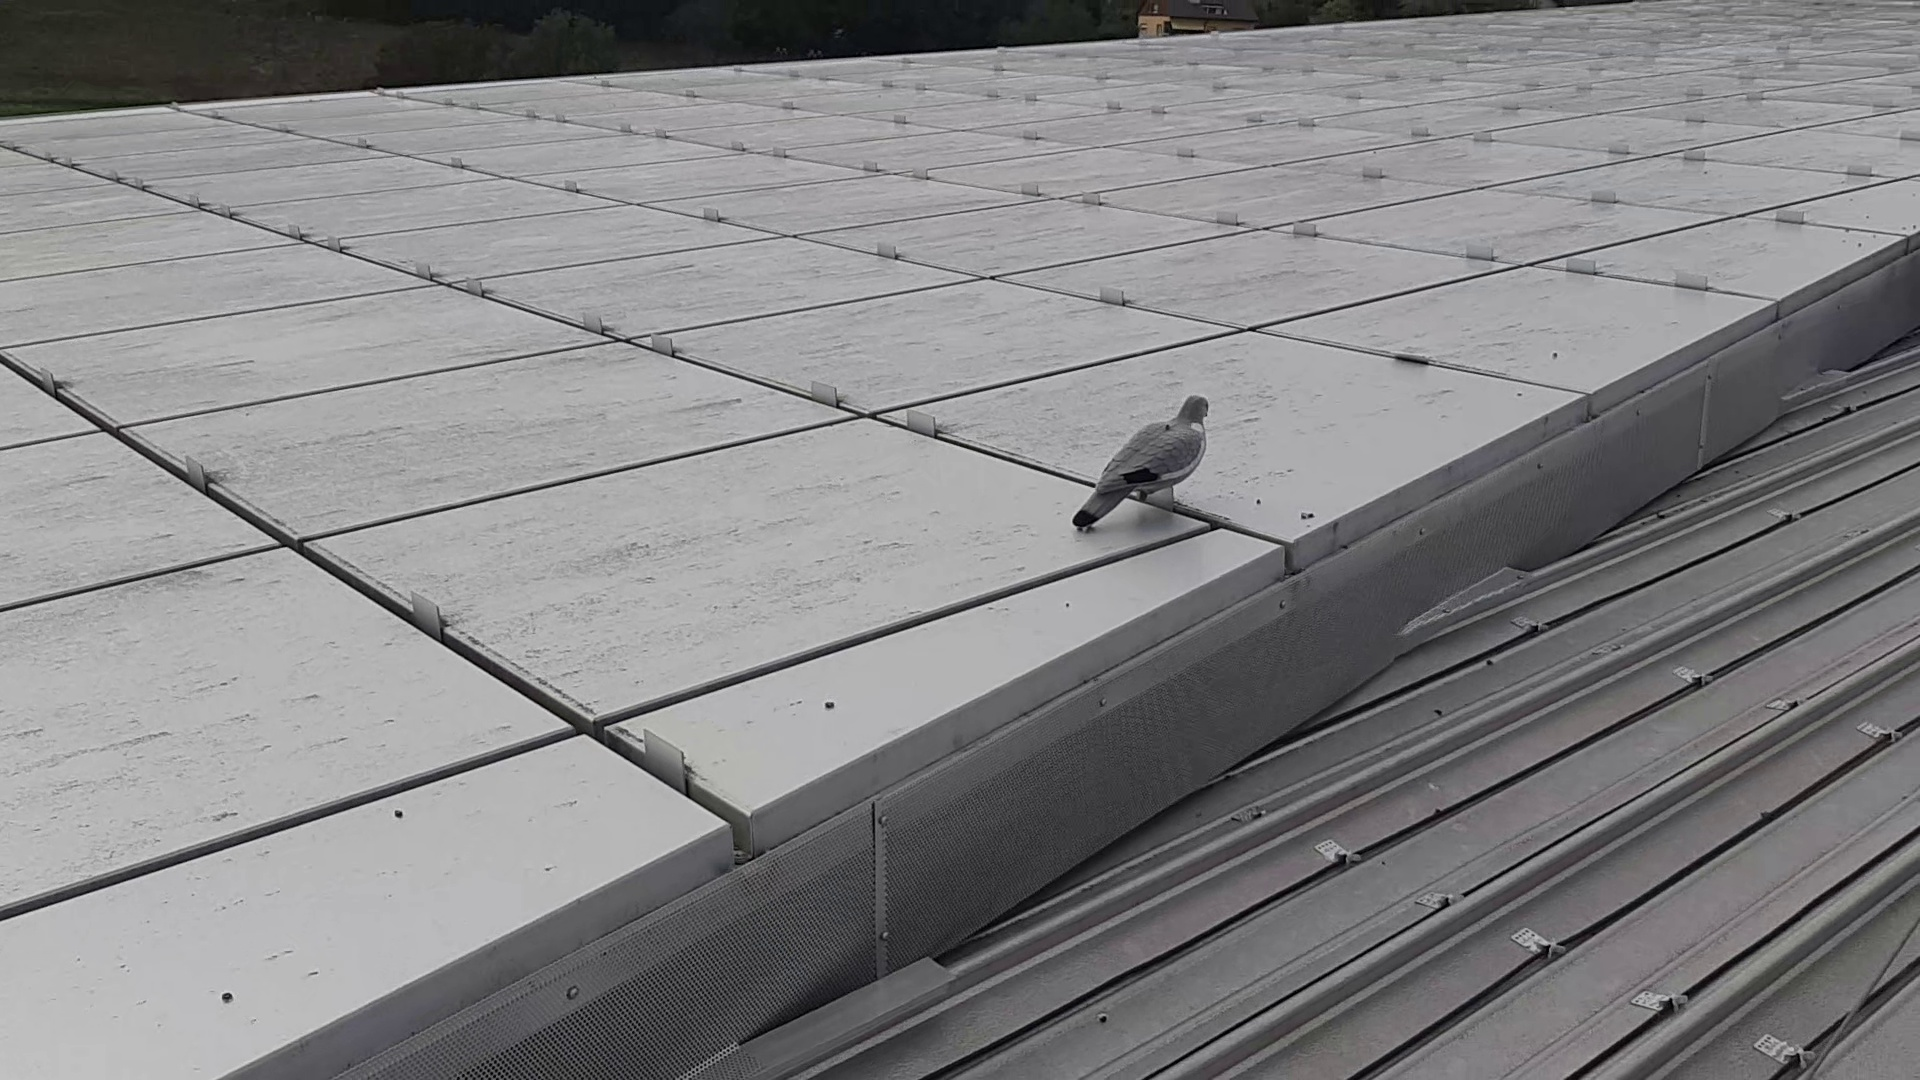Pigeon: (1068, 396, 1217, 541)
